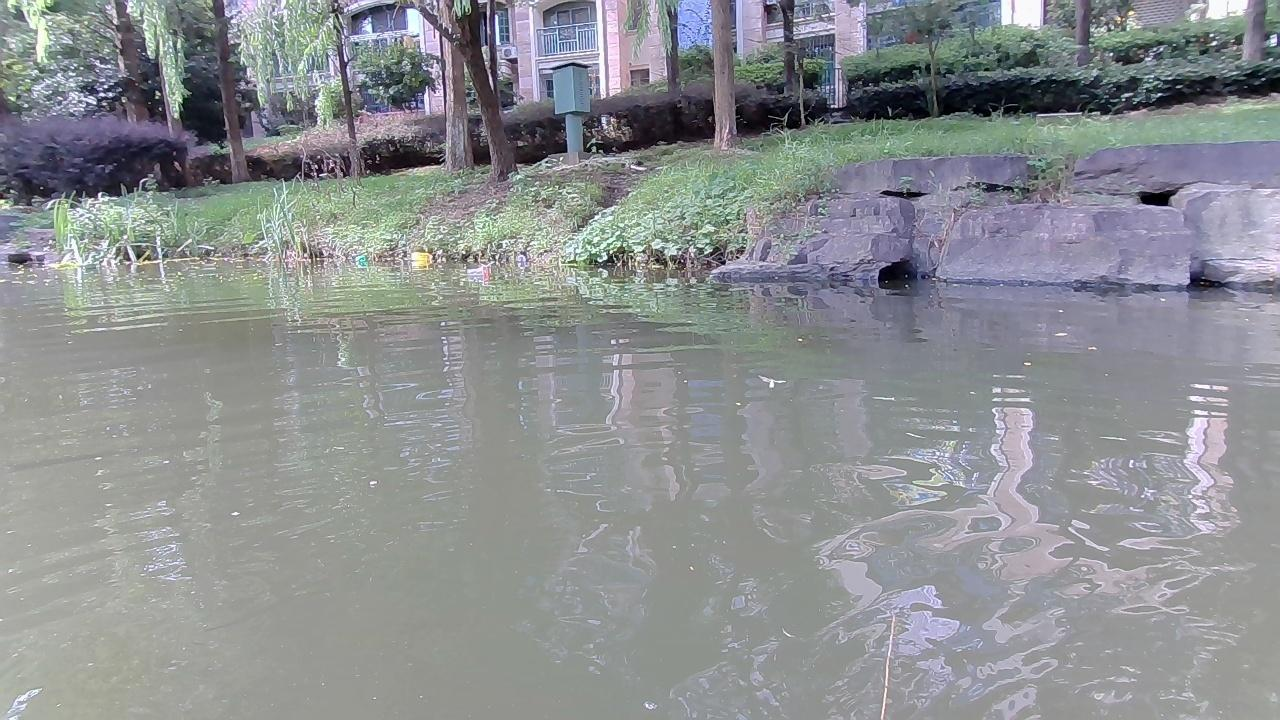bottle: (407, 252, 435, 266), (464, 265, 493, 277), (351, 253, 368, 263)
